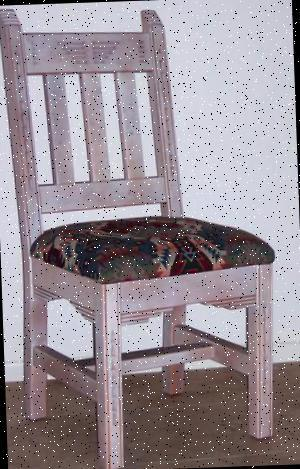Silla: (0, 0, 290, 468)
